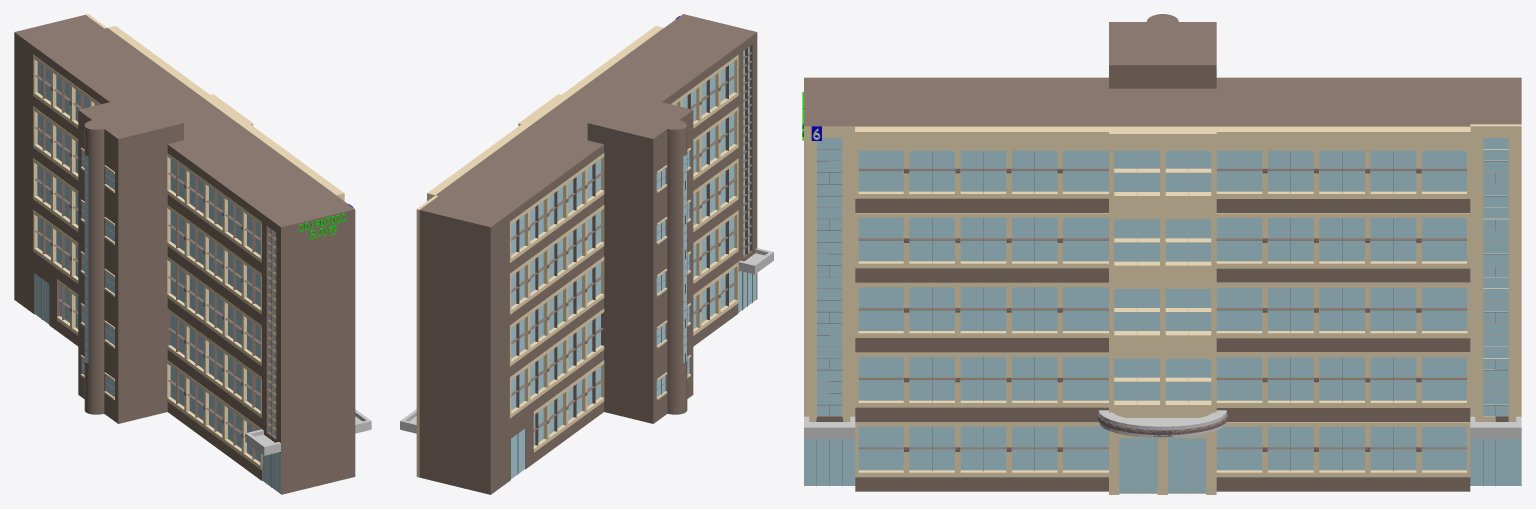
The model's file is 6building_3.glb.
The picture shows the model from 3 angles, left to right: view 1: azimuth 30°, elevation 25°; view 2: azimuth 150°, elevation 25°; view 3: azimuth 270°, elevation 25°; orthographic projection. The views are drawn at different scales.
Visible parts, largest first — view 1: main, right-side-building, 5,6사이건물, 후면창문, left-side-building, Cube.042, Cube.001, Cube.056, Cube.057, Cube.058, Cube.059, Cube.044 (+5 smaller); view 2: main, left-side-building, 5,6사이건물, 후면창문, Cube.042, right-side-building, Cube.001, Cube.059, Cube.044, Cube.058, Cube.057, Cube.056 (+5 smaller); view 3: 정면창문, main, Cube.036, center, Cube.001, left-side-building, right-side-building, Cube.078, Cube.025, Cube.047, Cube.049, Cube.051 (+11 smaller).
Boxes of the visible parts, box(x1,y1,x2,y2) form: main: box(33, 28, 335, 480); right-side-building: box(262, 195, 355, 494); 5,6사이건물: box(78, 106, 166, 423); 후면창문: box(37, 62, 260, 461); left-side-building: box(14, 14, 106, 313); Cube.042: box(33, 54, 100, 335); Cube.001: box(108, 26, 344, 200); Cube.056: box(167, 309, 261, 418); Cube.057: box(167, 257, 261, 366); Cube.058: box(167, 205, 261, 314); Cube.059: box(167, 153, 261, 262); Cube.044: box(167, 360, 262, 470); main: box(436, 28, 738, 480); left-side-building: box(416, 195, 509, 494); 5,6사이건물: box(607, 106, 693, 423); 후면창문: box(511, 61, 734, 445); Cube.042: box(509, 153, 604, 452); right-side-building: box(664, 14, 757, 309); Cube.001: box(427, 26, 663, 201); Cube.059: box(671, 55, 738, 128); Cube.044: box(693, 262, 738, 335); Cube.058: box(693, 106, 738, 180); Cube.057: box(693, 158, 738, 231); Cube.056: box(693, 210, 738, 283); 정면창문: box(858, 150, 1467, 470); main: box(855, 24, 1470, 491); Cube.036: box(1216, 143, 1470, 477); center: box(1109, 129, 1216, 493); Cube.001: box(855, 126, 1470, 150); left-side-building: box(1470, 77, 1521, 485); right-side-building: box(804, 77, 855, 485); Cube.078: box(1483, 138, 1508, 369); Cube.025: box(817, 138, 842, 369); Cube.047: box(855, 352, 1108, 407); Cube.049: box(855, 282, 1108, 337); Cube.051: box(855, 213, 1108, 268).
Size of the model in its own units: 103 by 165 by 281.
